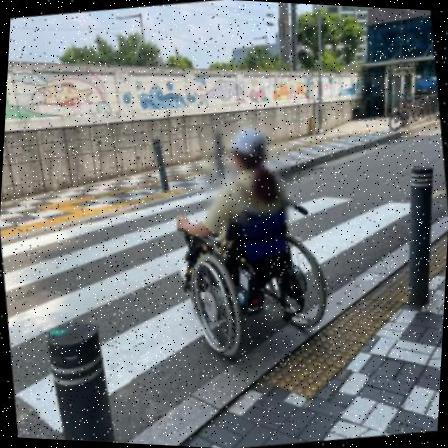wheel: (155, 118, 344, 369)
